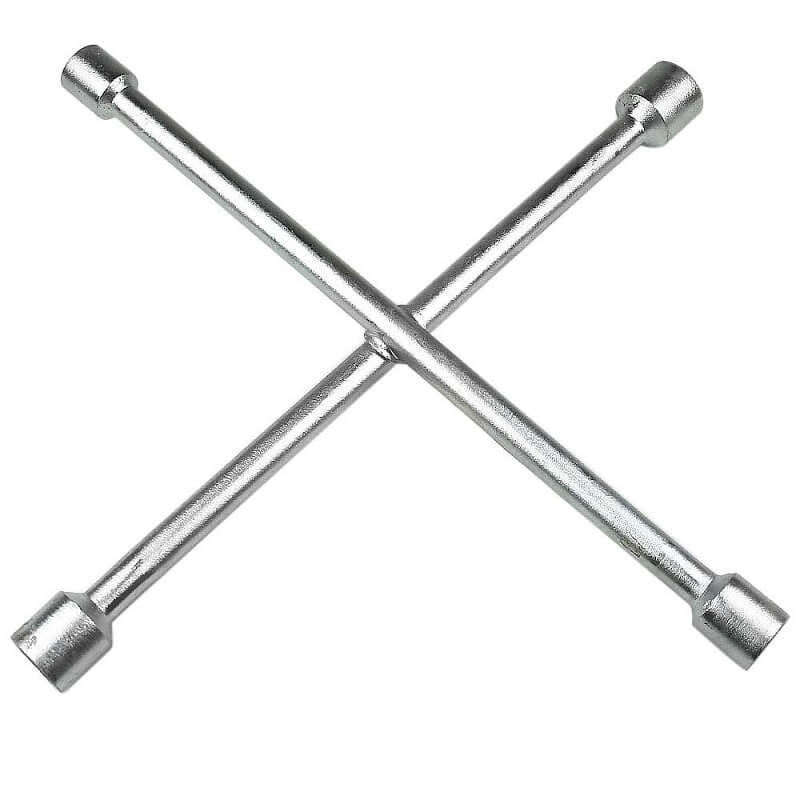chave_allen: (5, 36, 797, 697)
